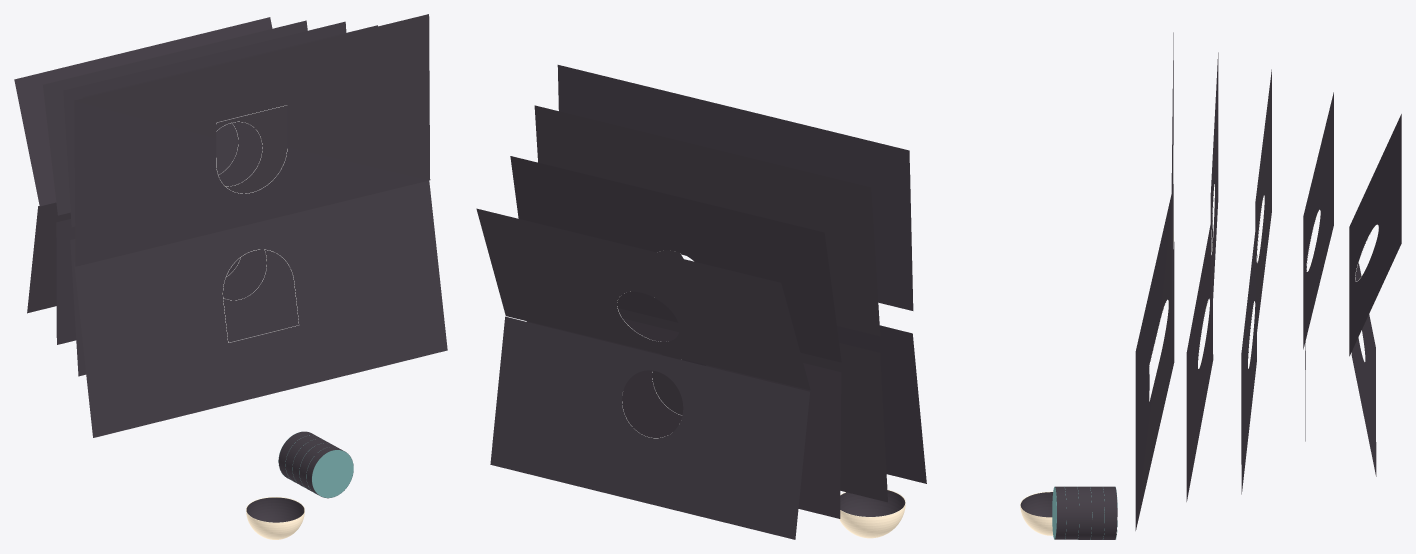
3 renders of one model, left to right at view 1: azimuth 30°, elevation 25°; view 2: azimuth 150°, elevation 25°; view 3: azimuth 270°, elevation 25°, orthographic. The views are drawn at different scales.
Parts seen in each view (by area): view 1: Plane.009, Plane, Plane.002, Plane.001, Plane.004, Plane.005, Plane.003, Plane.008, Plane.006, Plane.007, Cylinder, Cylinder.001 (+2 smaller); view 2: Plane.008, Plane.001, Plane.002, Plane.004, Plane.003, Plane.007, Plane.006, Plane.005, Sphere, Sphere.001; view 3: Plane.009, Plane.001, Plane.004, Plane.005, Cylinder, Plane.002, Plane.006, Plane.008, Plane.003, Plane, Sphere, Sphere.001.
Part boxes in pixels (box(x1,y1,x2,y2)): Plane.009: box(74, 180, 447, 437); Plane: box(74, 14, 430, 266); Plane.002: box(63, 21, 346, 226); Plane.001: box(14, 17, 272, 206); Plane.004: box(43, 20, 307, 215); Plane.005: box(223, 250, 298, 342); Plane.003: box(82, 25, 377, 193); Plane.008: box(27, 202, 70, 313); Plane.006: box(70, 239, 266, 376); Plane.007: box(56, 219, 240, 344); Cylinder: box(278, 431, 353, 498); Cylinder.001: box(312, 450, 353, 497); Plane.008: box(490, 316, 809, 539); Plane.001: box(476, 208, 810, 390); Plane.002: box(534, 105, 880, 336); Plane.004: box(510, 156, 841, 362); Plane.003: box(557, 65, 913, 310); Plane.007: box(526, 318, 841, 518); Plane.006: box(618, 308, 887, 502); Plane.005: box(681, 325, 926, 483); Sphere: box(840, 490, 905, 516); Sphere.001: box(839, 489, 905, 538); Plane.009: box(1135, 184, 1174, 530); Plane.001: box(1349, 114, 1401, 356); Plane.004: box(1303, 92, 1333, 349); Plane.005: box(1186, 215, 1213, 501); Cylinder: box(1055, 486, 1117, 539); Plane.002: box(1255, 69, 1271, 344); Plane.006: box(1241, 232, 1256, 494); Plane.008: box(1351, 263, 1376, 476); Plane.003: box(1210, 52, 1218, 342); Plane: box(1171, 32, 1173, 357); Sphere: box(1020, 492, 1052, 517); Sphere.001: box(1020, 492, 1053, 535).
Size of the model in its own units: 10.01 by 11.54 by 8.94.
